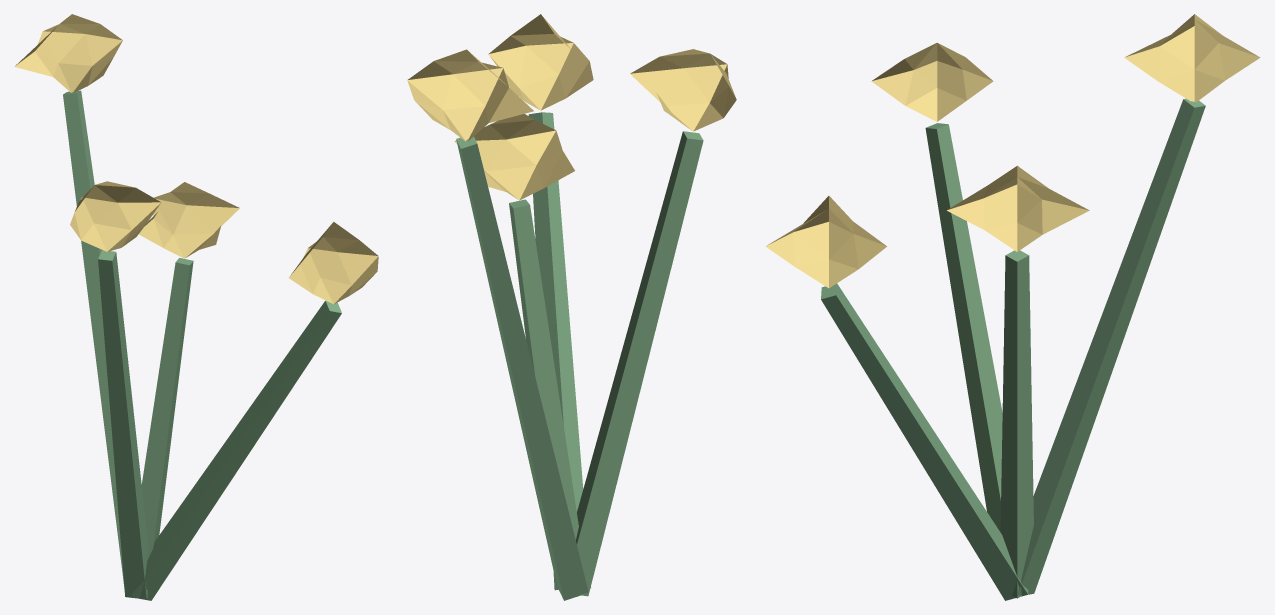
The model's file is flower_v02.glb.
3 views of the same model, side by side, from view 1: azimuth 30°, elevation 25°; view 2: azimuth 150°, elevation 25°; view 3: azimuth 270°, elevation 25° (orthographic). The views are drawn at different scales.
Visible parts, largest first — view 1: lod0; view 2: lod0; view 3: lod0.
Boxes of the visible parts, box(x1,y1,x2,y2) form: lod0: box(14, 14, 378, 600); lod0: box(407, 14, 736, 600); lod0: box(765, 14, 1260, 600).
Size of what is drawn, in the model's own units: 0.3425 by 0.6579 by 0.5008.
